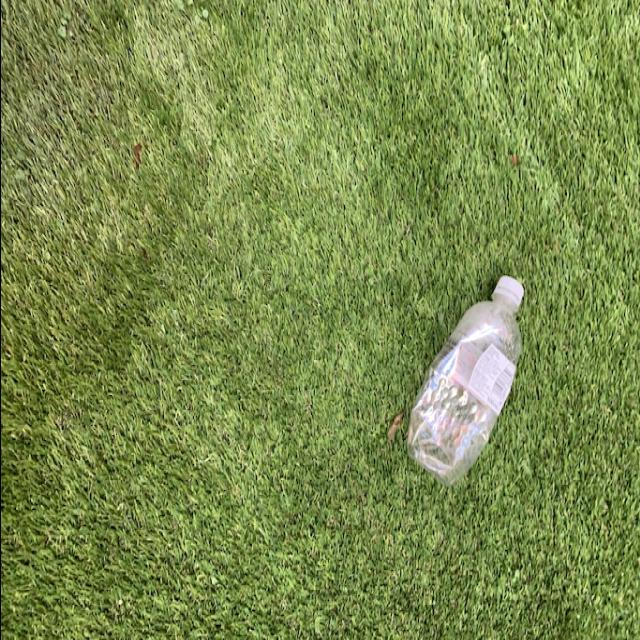PET: (402, 261, 528, 489)
